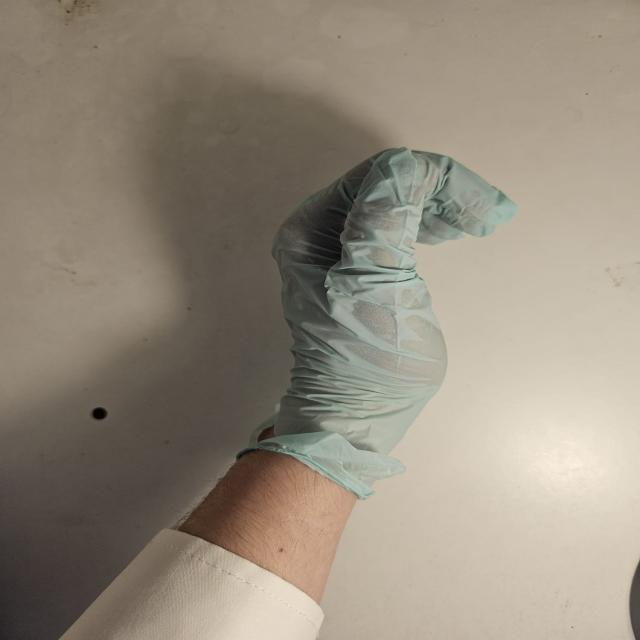gloves_damaged: (234, 148, 521, 502)
